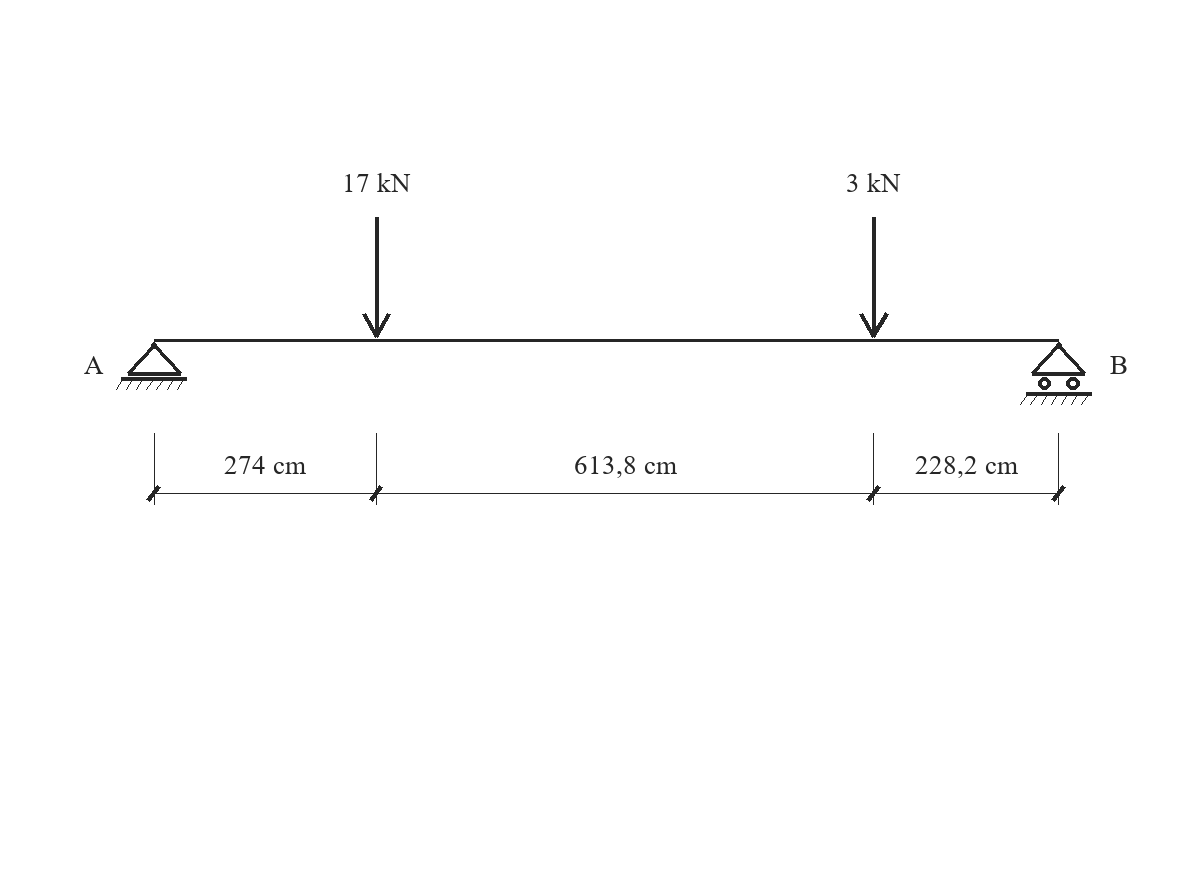pin_support: (116, 342, 187, 390)
point_load: (859, 217, 889, 338), (362, 217, 391, 338)
roller_support: (1020, 342, 1092, 405)
